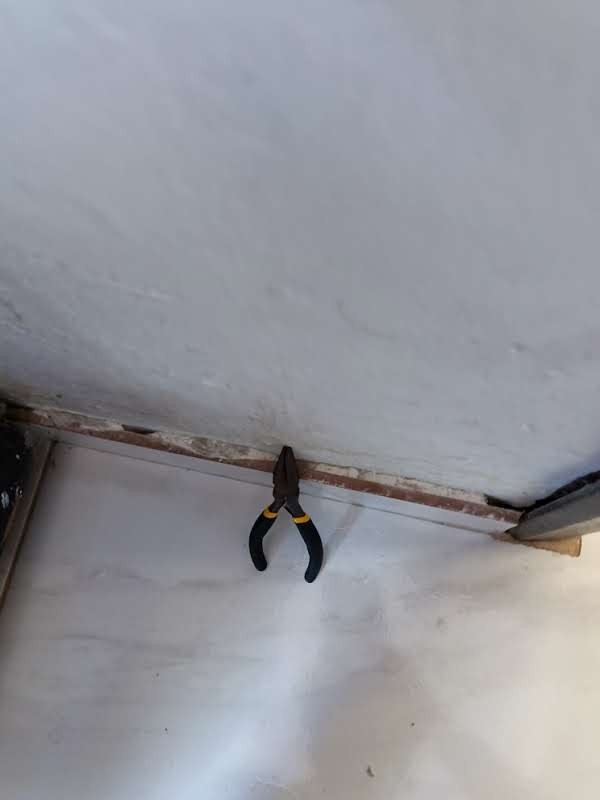Pinzas: (249, 446, 322, 582)
